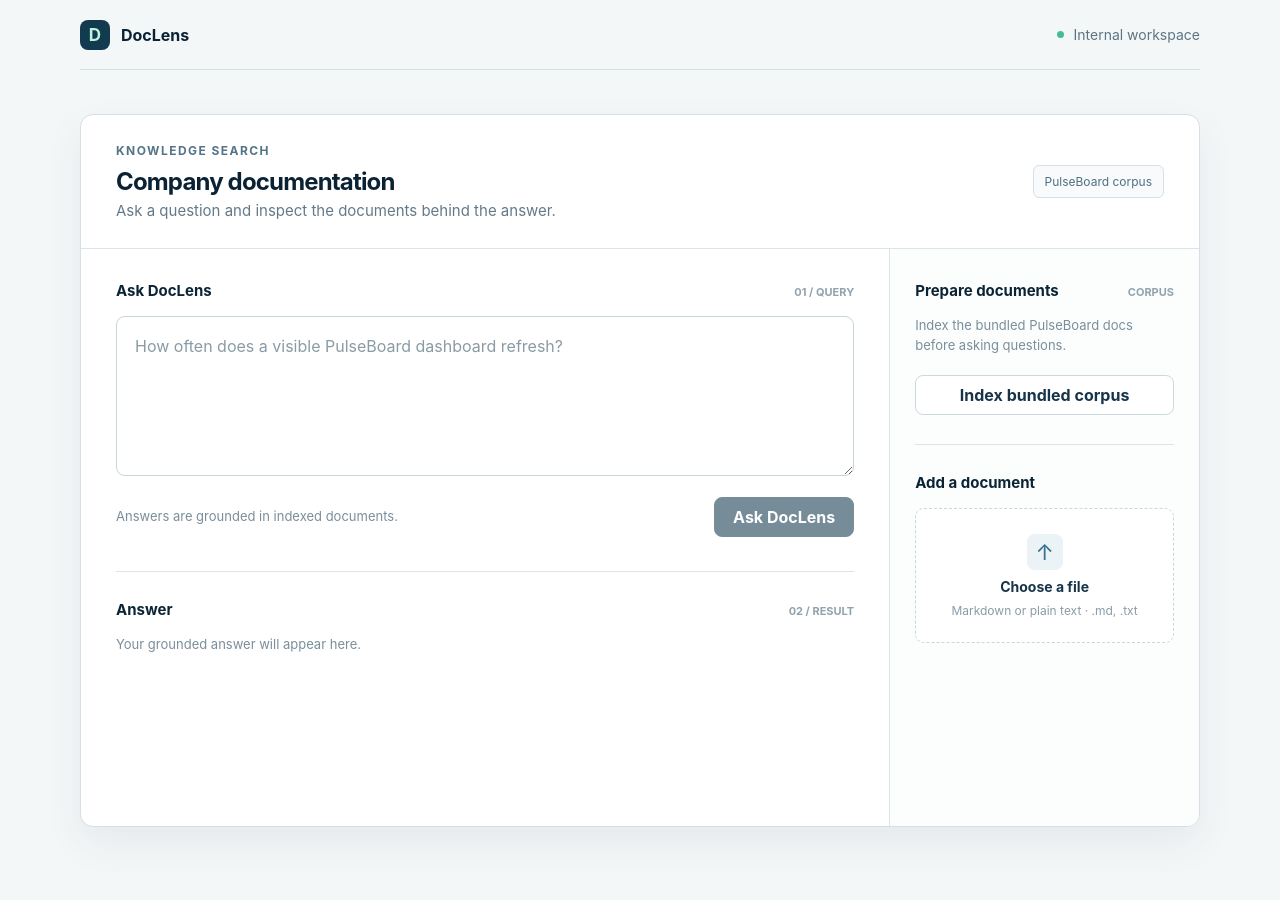
it: DocLens frontend › shows API errors without replacing the previous result
The image size is (1280, 900).
In the text box named "Question": point(485, 396) [116,316,854,476], type "First question"
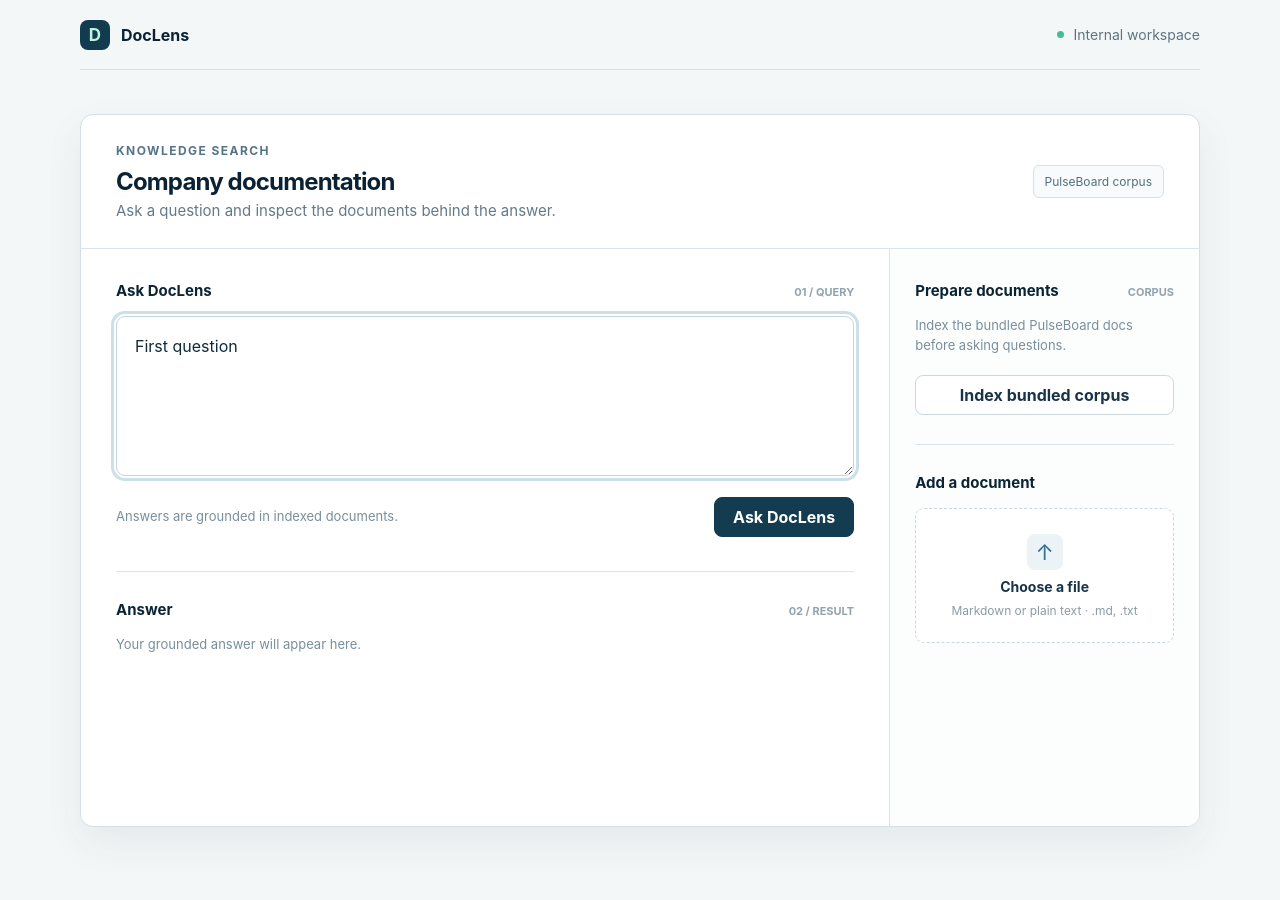
Click the button "Ask DocLens": point(784, 517) [714,497,854,537]
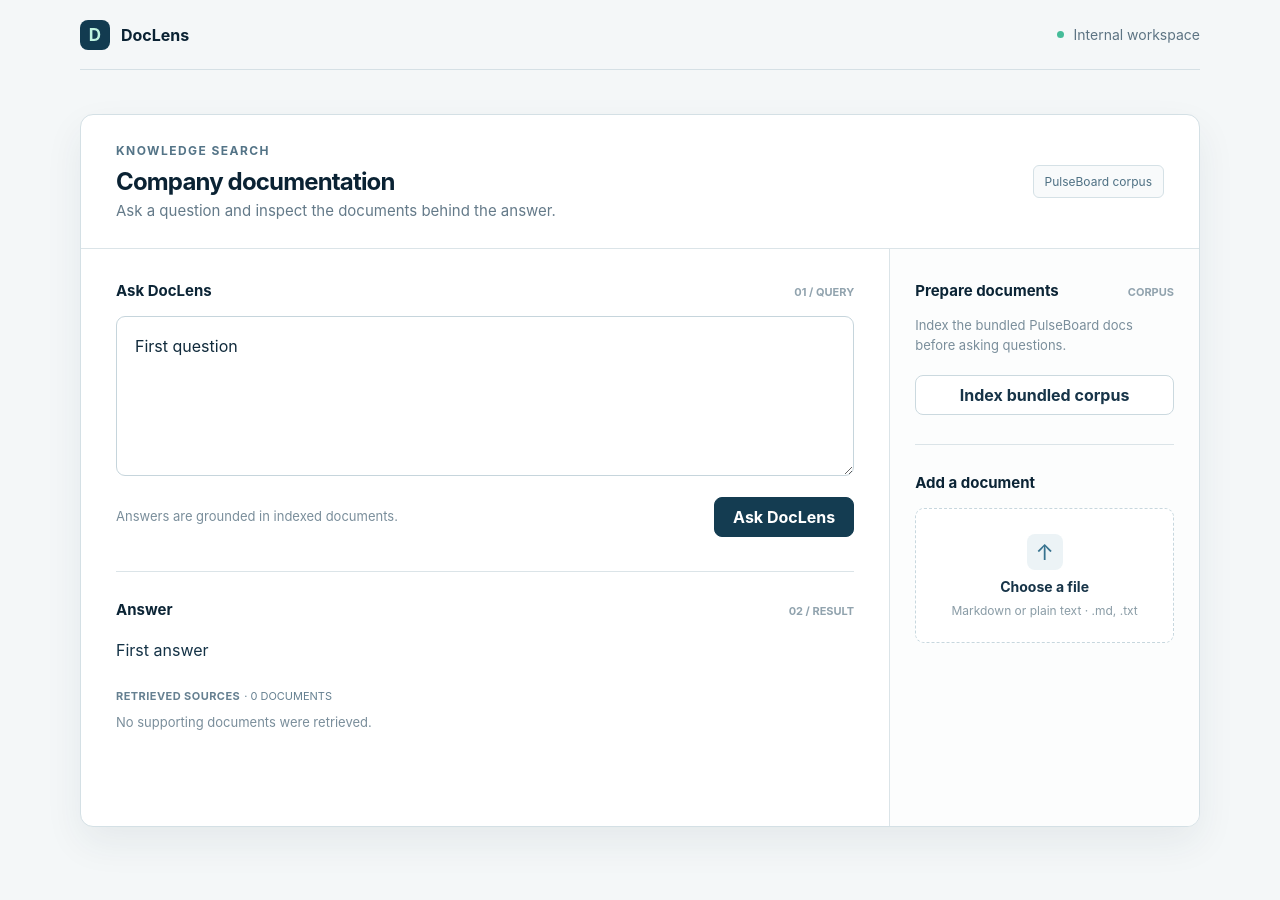
expect the text "First answer" is shown: met, box [116,640,209,660]
Replace the text in the text box named "Question" with "Second question": point(485, 396) [116,316,854,476]
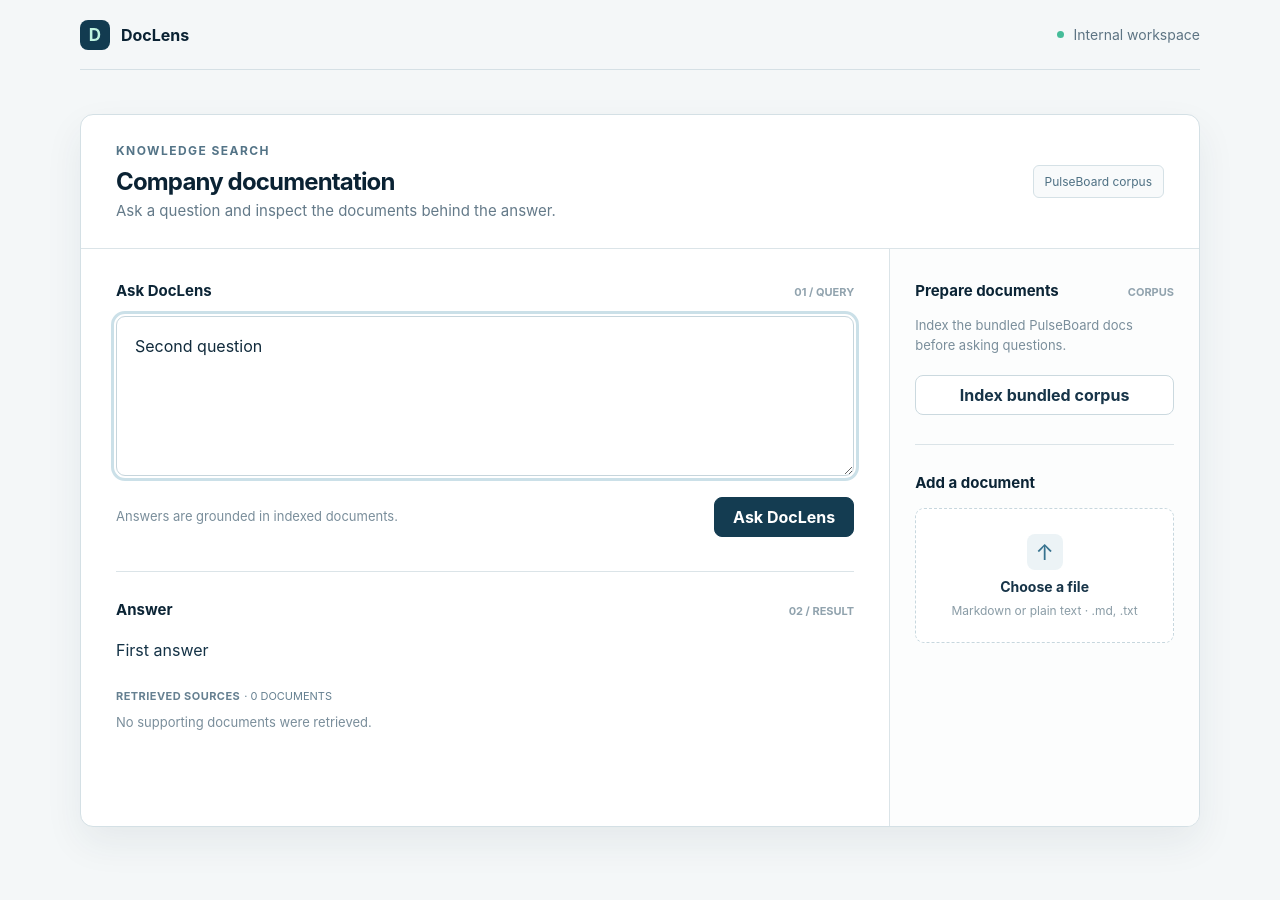
Click the button "Ask DocLens": point(784, 517) [714,497,854,537]
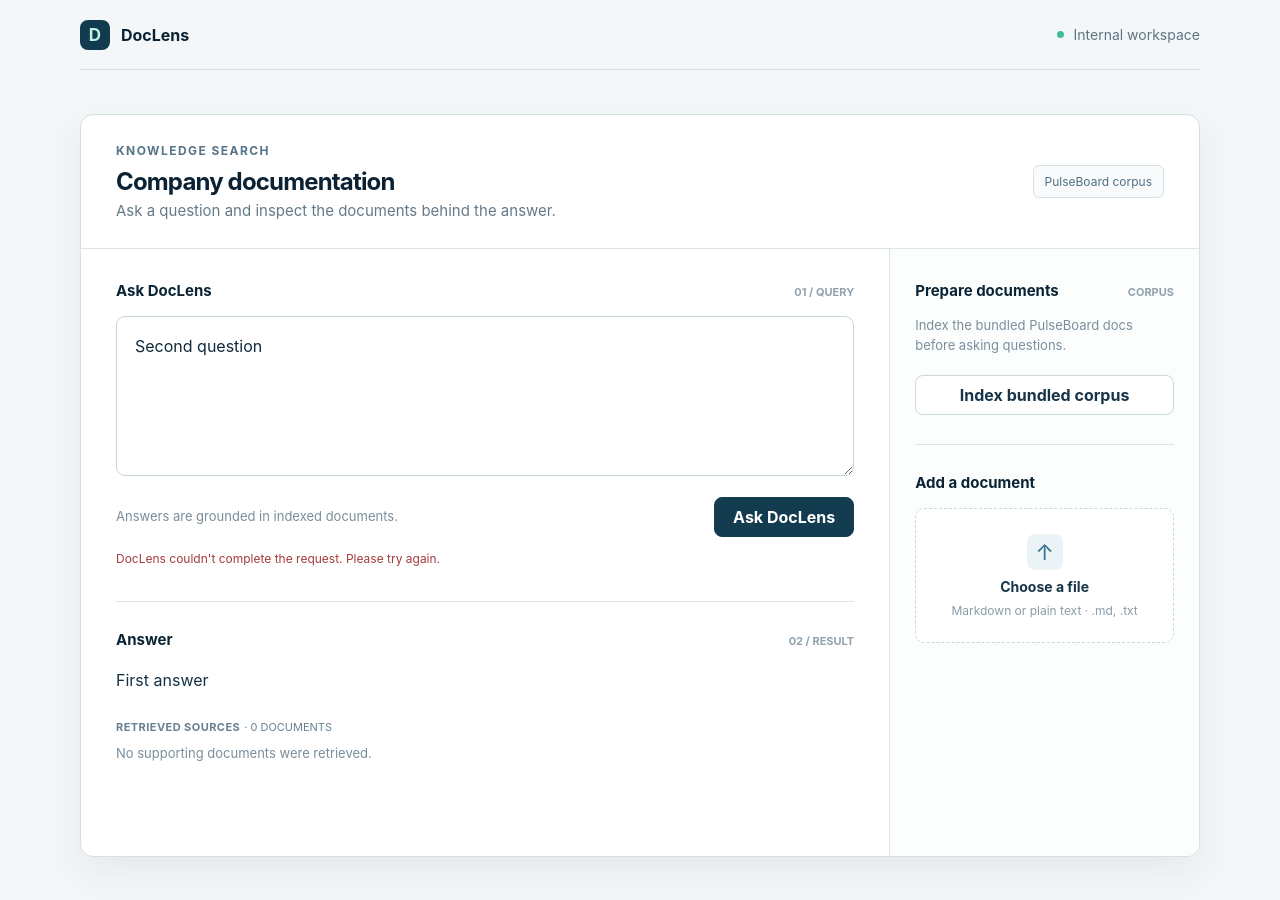
expect the text "First answer" is shown: met, box [116,670,209,690]
expect the message reads "DocLens couldn't complete the request. Please try again.": met, box [116,551,440,566]
